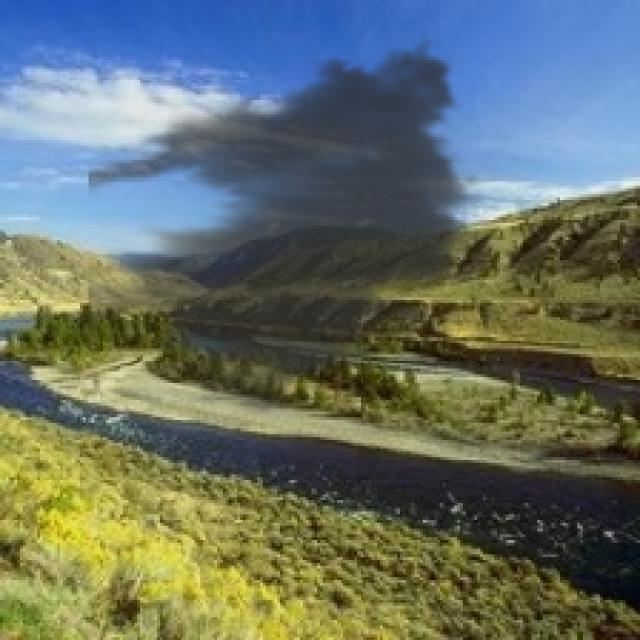smoke: (89, 28, 492, 426)
